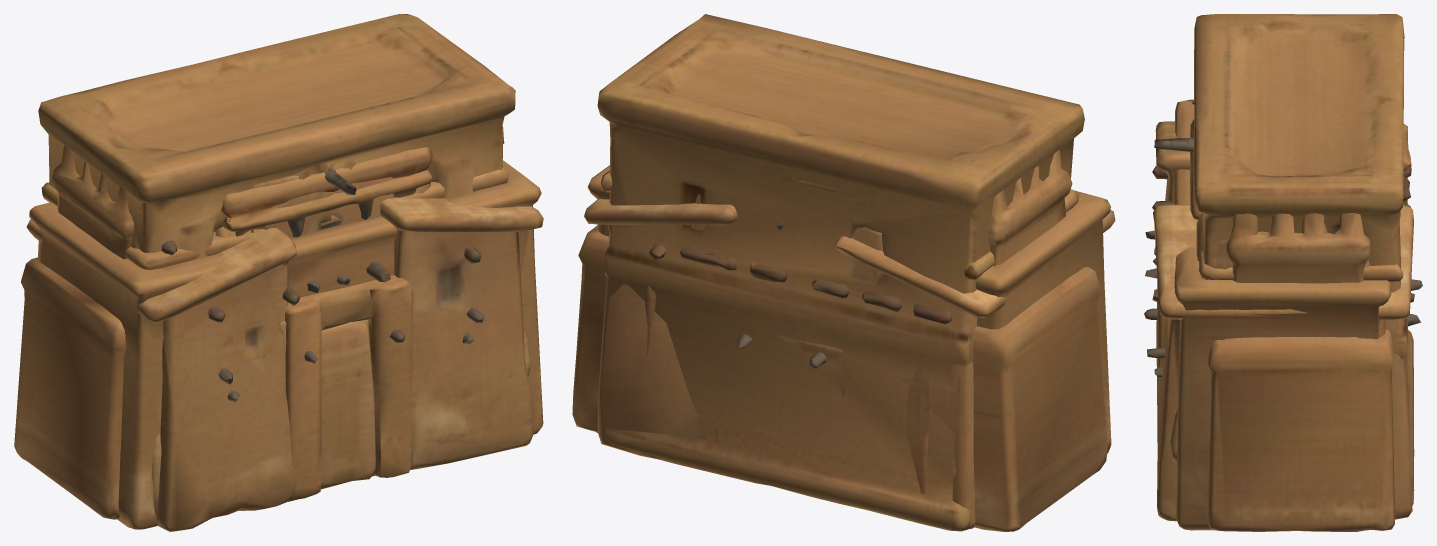
The model's file is houses.glb.
The picture shows the model from 3 angles, left to right: view 1: azimuth 30°, elevation 25°; view 2: azimuth 150°, elevation 25°; view 3: azimuth 270°, elevation 25°; orthographic projection. The views are drawn at different scales.
Visible parts, largest first — view 1: part9, part6, part2, part3, part5, part0, part8, part7, part4; view 2: part9, part3, part6, part2, part8, part4, part5; view 3: part9, part3, part2, part6, part5, part7, part4, part0.
Boxes of the visible parts, x1,y1,x2,y2 form: part9: (38, 14, 515, 500); part6: (26, 197, 543, 531); part2: (29, 160, 543, 529); part3: (14, 126, 504, 519); part5: (41, 165, 508, 489); part0: (221, 147, 432, 237); part8: (215, 154, 430, 501); part7: (131, 231, 530, 514); part4: (208, 247, 481, 322); part9: (597, 14, 1084, 531); part3: (572, 150, 1107, 531); part6: (584, 199, 1115, 529); part2: (587, 165, 1111, 453); part8: (645, 179, 929, 493); part4: (649, 243, 952, 324); part5: (600, 170, 1079, 279); part9: (1153, 14, 1414, 505); part3: (1144, 213, 1422, 531); part2: (1174, 99, 1391, 530); part6: (1153, 121, 1413, 521); part5: (1199, 250, 1403, 281); part7: (1170, 101, 1369, 463); part4: (1152, 163, 1414, 302); part0: (1190, 119, 1201, 220).
Size of the model in its own units: 0.2397 by 0.182 by 0.1371.
Materials: 1 (1 with a texture image).
